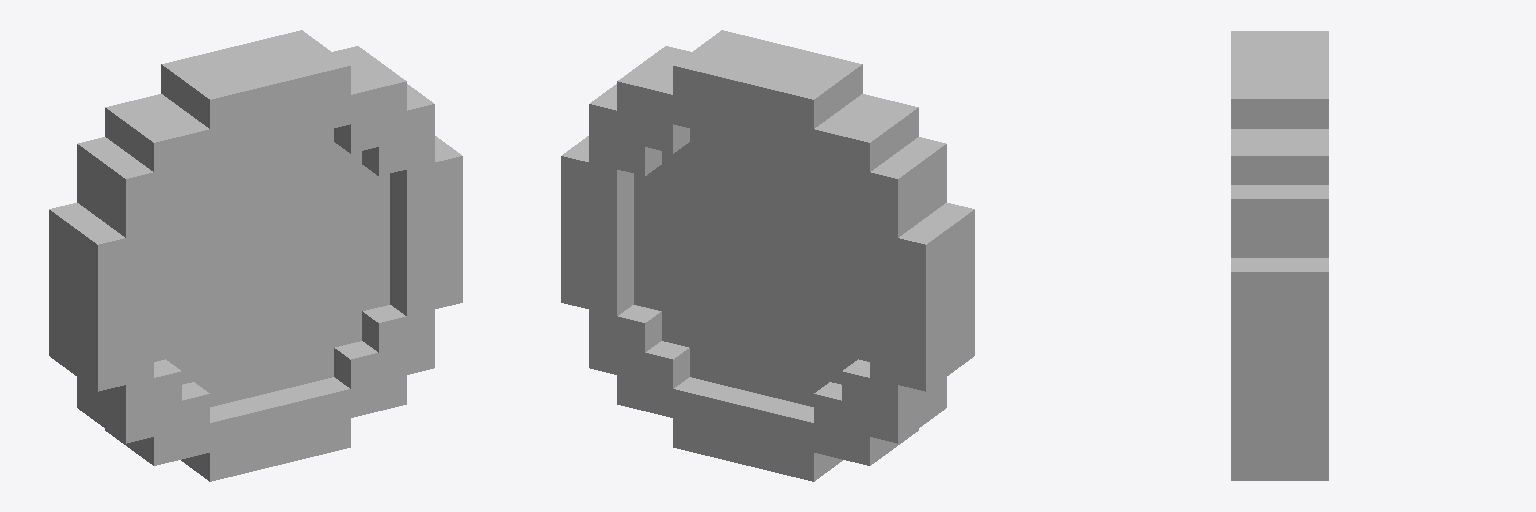
File: Coin.obj
3 views of the same model, side by side, from view 1: azimuth 30°, elevation 25°; view 2: azimuth 150°, elevation 25°; view 3: azimuth 270°, elevation 25° (orthographic).
Visible parts, largest first — view 1: Coin; view 2: Coin; view 3: Coin.
Boxes of the visible parts, <box> form: Coin: <box>49,30,462,481</box>; Coin: <box>561,30,974,481</box>; Coin: <box>1231,31,1328,480</box>.
Size of the model in its own units: 13 by 13 by 3.